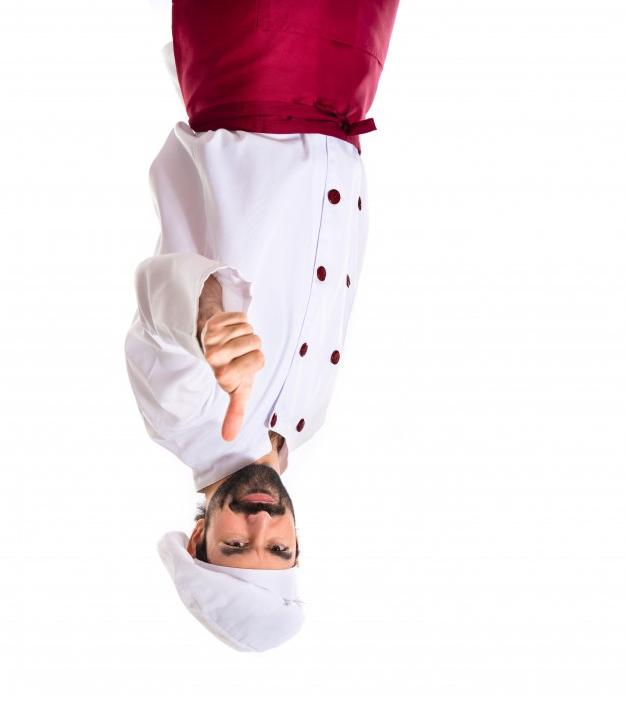thumbsdown: (201, 311, 264, 442)
